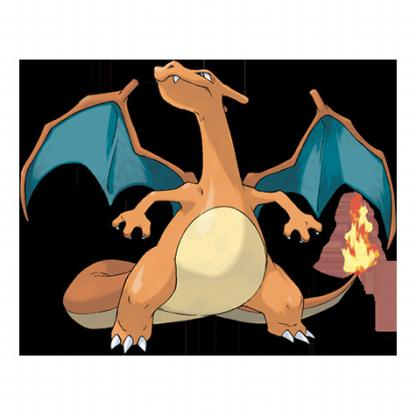Charizard: (1, 46, 416, 365)
